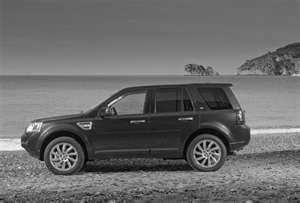car: (24, 83, 253, 176)
